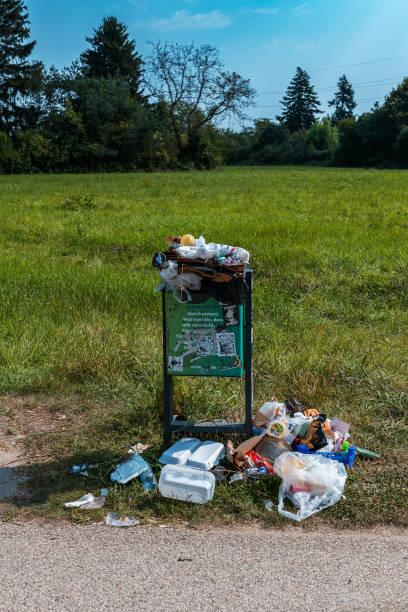trash: (268, 387, 365, 469), (269, 457, 342, 518), (159, 236, 235, 287), (153, 459, 227, 504), (158, 426, 223, 469), (250, 392, 294, 439), (114, 449, 159, 488), (237, 448, 284, 483), (76, 465, 121, 491), (104, 508, 149, 532), (239, 429, 283, 453), (71, 495, 109, 521)
trash_can_overflow: (138, 229, 296, 503)
